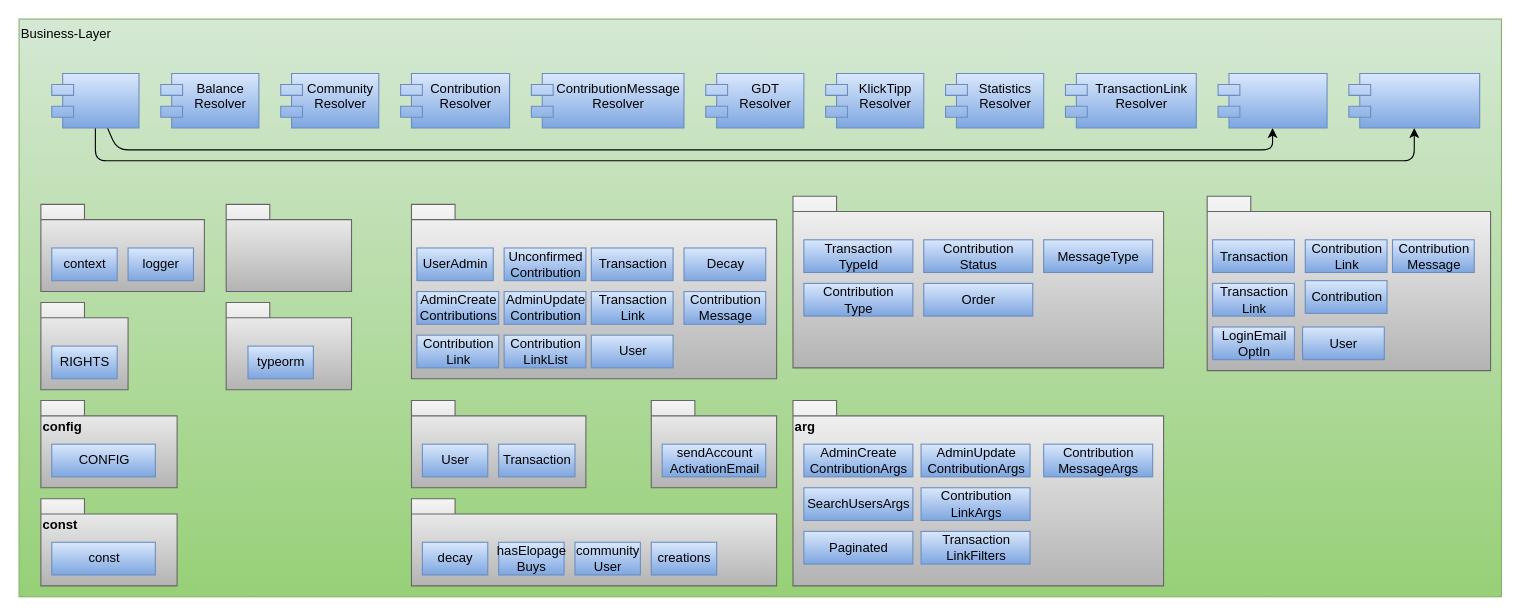
This 1521x616 diagram has some shape labels left out. Here are the shapes that lost their labels. From the top down, the box of each, then its label:
(51, 72, 139, 128): Admin Resolver
(1217, 72, 1327, 128): Transaction Resolver
(1348, 72, 1480, 128): User Resolver
(40, 203, 204, 292): server
(225, 203, 352, 292): type-graphql
(410, 203, 777, 379): model
(792, 195, 1164, 368): enum
(1206, 195, 1491, 371): entity
(40, 301, 128, 390): auth
(225, 301, 352, 390): dbTools
(410, 399, 586, 488): repository
(650, 399, 777, 488): mailer
(410, 498, 777, 586): util
